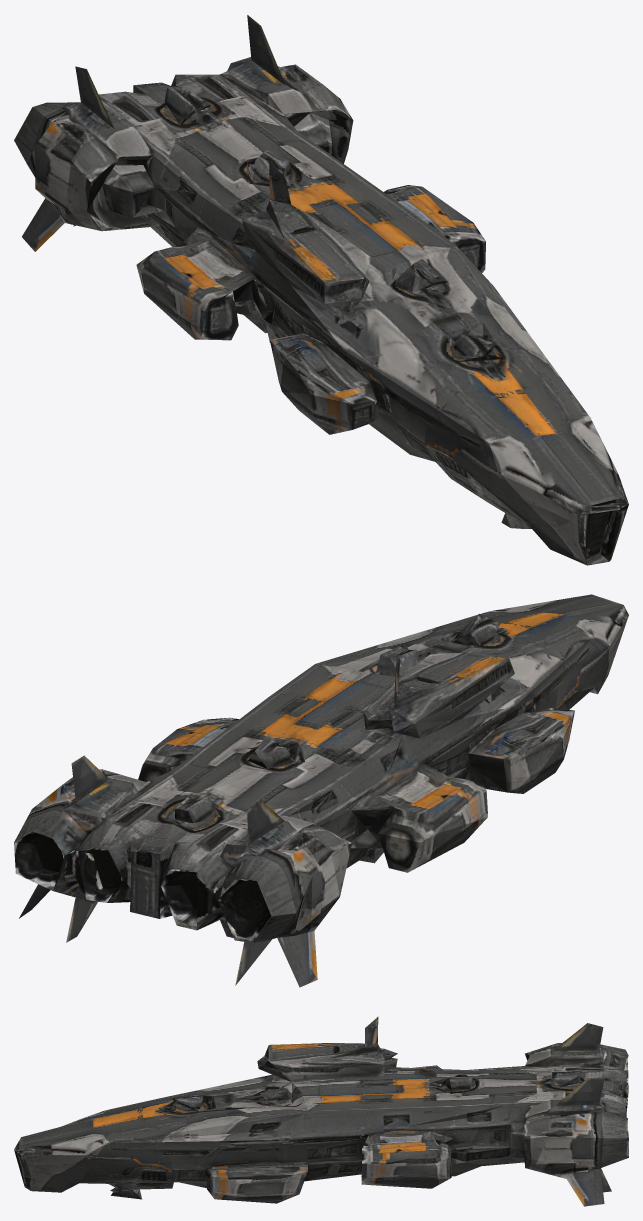
The model's file is frigate-low.glb.
3 views of the same model, one above another, from view 1: azimuth 30°, elevation 25°; view 2: azimuth 150°, elevation 25°; view 3: azimuth 270°, elevation 25° (orthographic). The views are drawn at different scales.
Visible parts, largest first — view 1: Low; view 2: Low; view 3: Low.
Boxes of the visible parts, x1,y1,x2,y2 form: Low: (14,15,628,565); Low: (14,594,628,987); Low: (14,1016,628,1206).
Bounding box in the file's own units: 0.6929 × 0.5495 × 1.91.
1 material, 1 textured.
